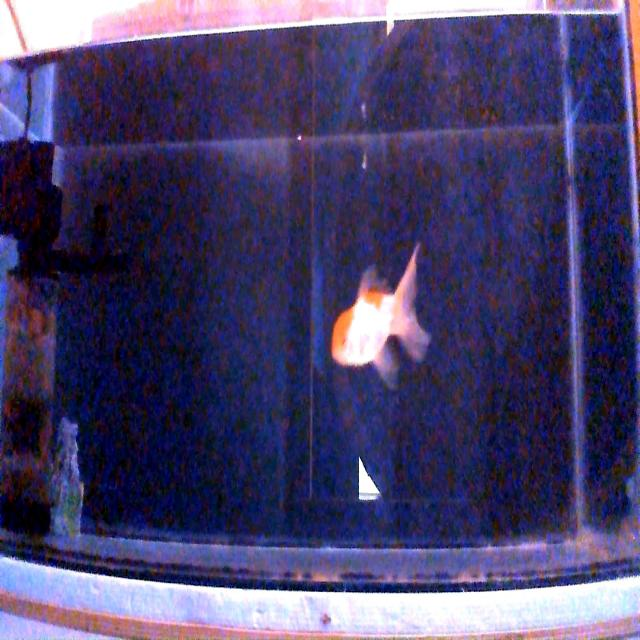fish: (331, 244, 430, 386)
